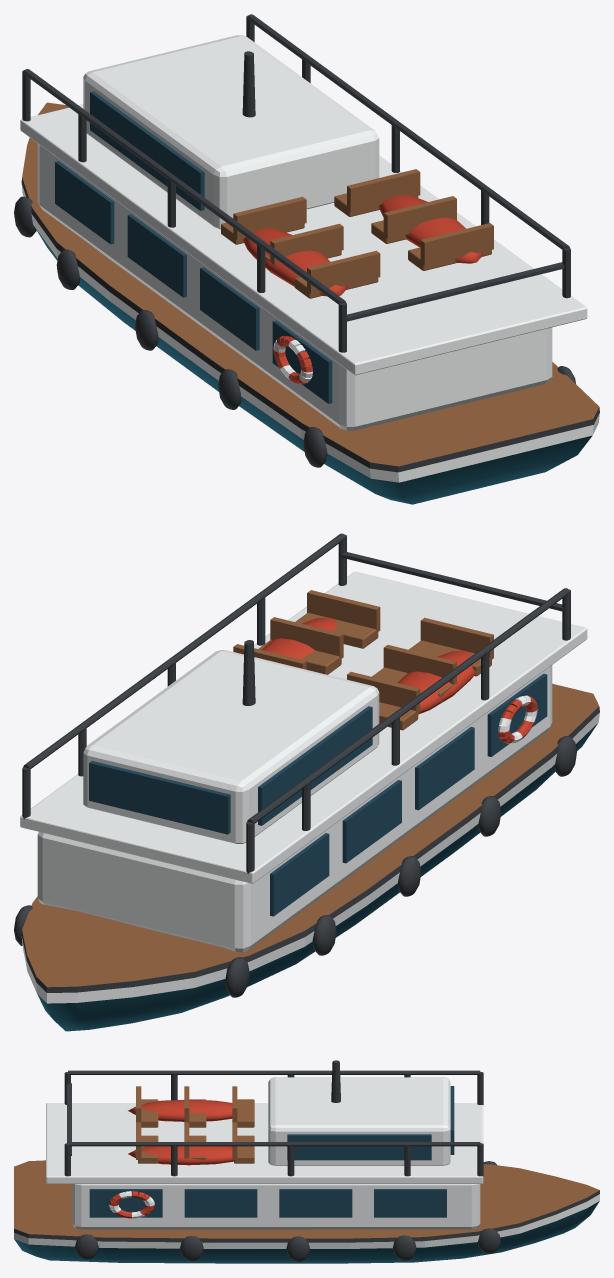
Rendered from boat.glb.
The picture shows the model from 3 angles, top to bottom: view 1: azimuth 30°, elevation 25°; view 2: azimuth 150°, elevation 25°; view 3: azimuth 270°, elevation 25°; orthographic projection. The views are drawn at different scales.
Visible parts, largest first — view 1: Boat; view 2: Boat; view 3: Boat.
Boxes of the visible parts, x1,y1,x2,y2 form: Boat: (14,14,599,504); Boat: (14,533,599,1031); Boat: (14,1060,599,1263).
Size of the model in its own units: 8.6 by 8.3 by 24.
